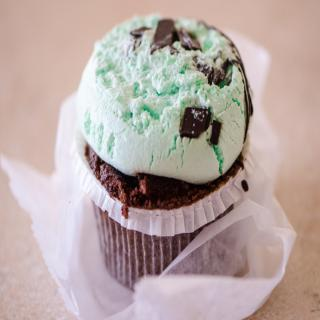Cake: (60, 11, 257, 296)
Cookie: (69, 10, 256, 291)
Muffin: (67, 11, 255, 291)
